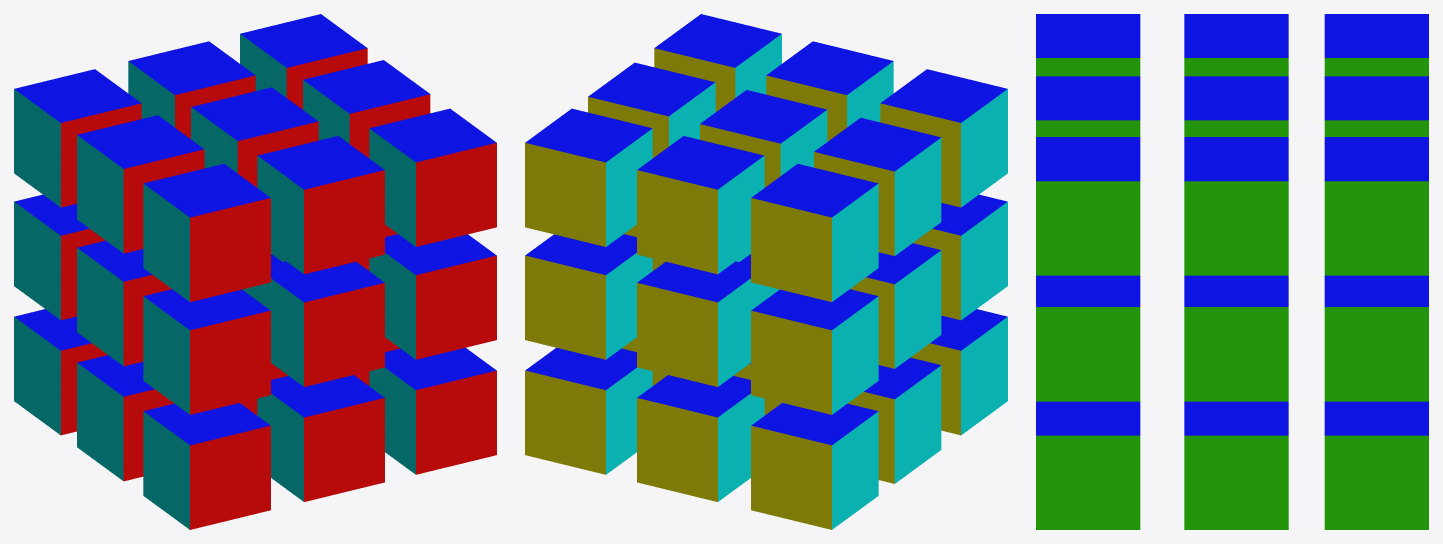
3 views of the same model, side by side, from view 1: azimuth 30°, elevation 25°; view 2: azimuth 150°, elevation 25°; view 3: azimuth 270°, elevation 25° (orthographic). The views are drawn at different scales.
Visible parts, largest first — view 1: Cube.010, Cube.016, Cube.025, Cube.013, Cube.007, Cube.019, Cube.022, Cube.001, Cube.004, Cube.011, Cube.009, Cube.024 (+7 smaller); view 2: Cube.009, Cube.015, Cube.026, Cube.014, Cube.008, Cube.020, Cube.021, Cube.002, Cube.003, Cube.010, Cube.011, Cube.025 (+7 smaller); view 3: Cube.012, Cube.013, Cube.014, Cube.023, Cube.021, Cube.022, Cube.005, Cube.003, Cube.004, Cube.011, Cube.009, Cube.010 (+3 smaller).
Boxes of the visible parts, x1,y1,x2,y2 form: Cube.010: (143,164,270,301); Cube.016: (257,136,384,274); Cube.025: (143,403,270,529); Cube.013: (369,108,496,246); Cube.007: (143,289,270,414); Cube.019: (257,375,384,501); Cube.022: (369,347,496,474); Cube.001: (257,261,384,386); Cube.004: (369,234,496,359); Cube.011: (77,115,204,253); Cube.009: (14,69,141,207); Cube.024: (77,355,173,481); Cube.009: (751,164,878,301); Cube.015: (637,136,764,274); Cube.026: (751,403,878,529); Cube.014: (525,108,652,246); Cube.008: (751,289,878,414); Cube.020: (637,375,764,501); Cube.021: (525,347,652,474); Cube.002: (637,261,764,386); Cube.003: (525,234,652,359); Cube.010: (880,69,1007,207); Cube.011: (814,117,941,255); Cube.025: (910,309,1007,435); Cube.012: (1184,137,1288,275); Cube.013: (1036,137,1140,275); Cube.014: (1324,137,1428,275); Cube.023: (1184,401,1288,529); Cube.021: (1324,401,1428,529); Cube.022: (1036,401,1140,529); Cube.005: (1184,275,1288,401); Cube.003: (1324,275,1428,401); Cube.004: (1036,275,1140,401); Cube.011: (1184,14,1288,76); Cube.009: (1324,14,1428,76); Cube.010: (1036,14,1140,76).
Bounding box in the file's own units: 7.59 × 7.38 × 7.54.
